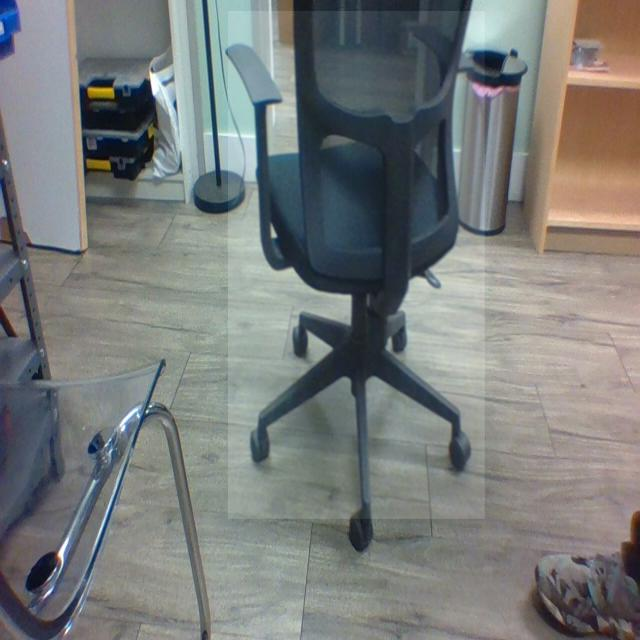black-chair: (228, 11, 486, 520)
